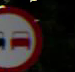No overtake: (1, 2, 47, 70)
